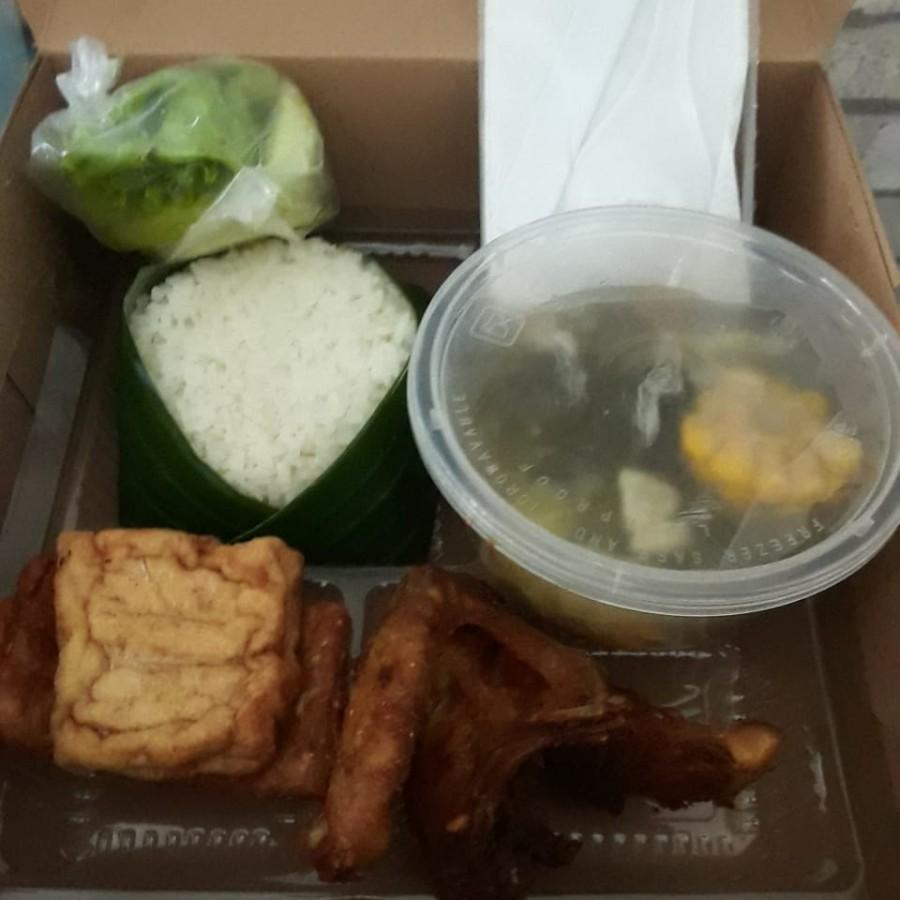daging: (380, 640, 632, 821)
kacang_legume: (70, 550, 252, 756)
makanan_berpati: (180, 300, 335, 429)
